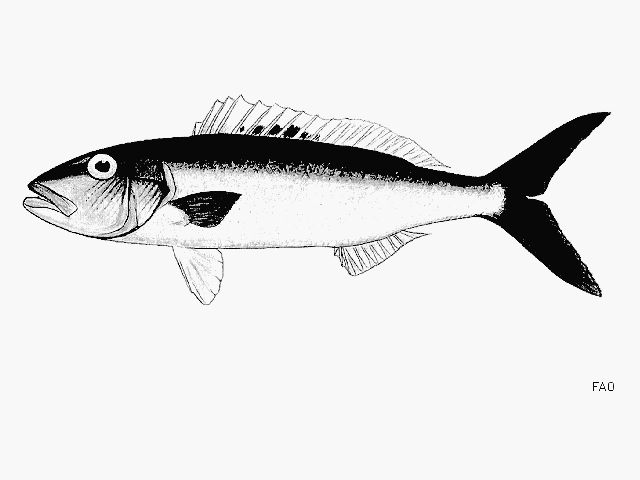fish: (20, 95, 604, 301)
